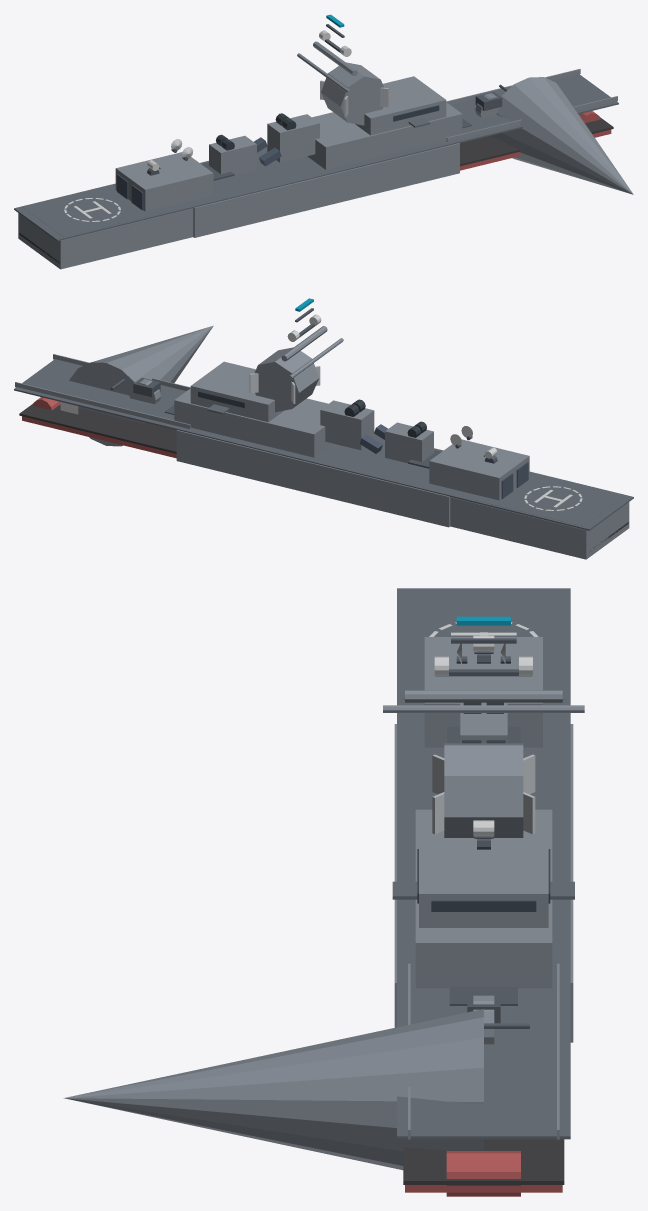
File: arleigh_burke_ddg51.glb
3 views of the same model, one above another, from view 1: azimuth 30°, elevation 25°; view 2: azimuth 150°, elevation 25°; view 3: azimuth 270°, elevation 25° (orthographic). The views are drawn at different scales.
Visible parts, largest first — view 1: world; view 2: world; view 3: world.
Part boxes in pixels (x1=…): world: x1=14, y1=14, x2=633, y2=269; world: x1=14, y1=298, x2=633, y2=559; world: x1=63, y1=588, x2=584, y2=1196.
Size of the model in its own units: 148 by 46.78 by 59.5.
